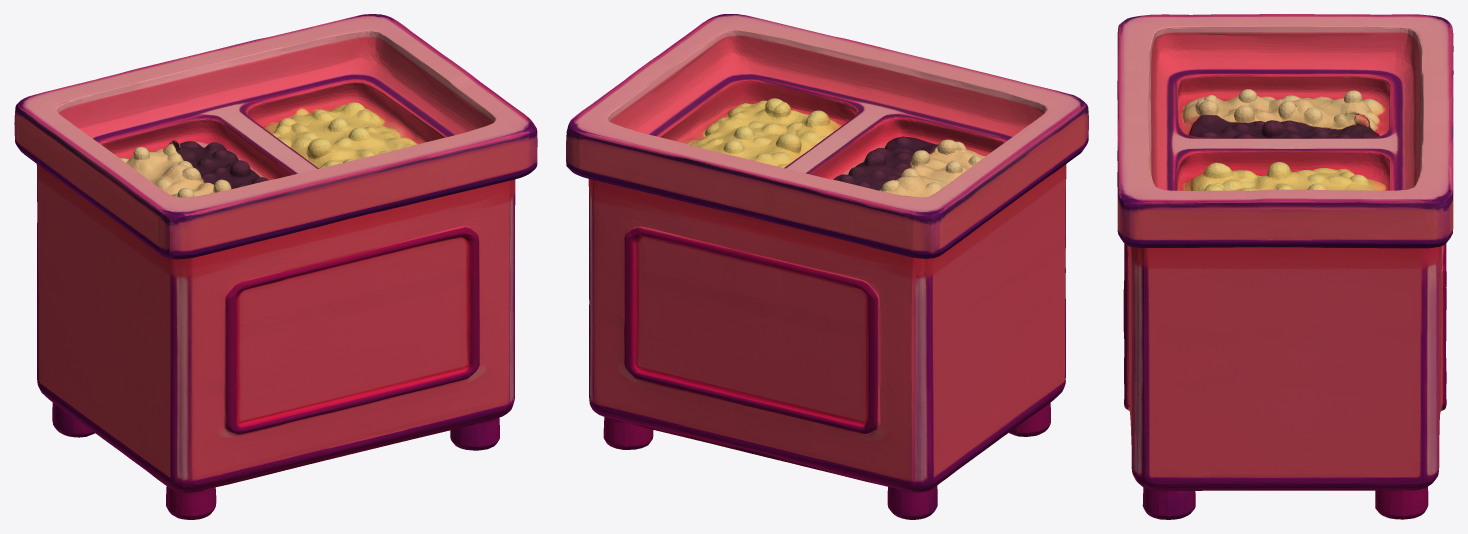
The picture shows the model from 3 angles, left to right: view 1: azimuth 30°, elevation 25°; view 2: azimuth 150°, elevation 25°; view 3: azimuth 270°, elevation 25°; orthographic projection. The views are drawn at different scales.
Visible parts, largest first — view 1: world; view 2: world; view 3: world.
Part boxes in pixels (<box>): world: <box>14,14,537,519</box>; world: <box>566,14,1088,519</box>; world: <box>1117,14,1453,519</box>.
Bounding box in the file's own units: 99.94 × 82.5 × 75.49.
Materials: 1 (1 with a texture image).
